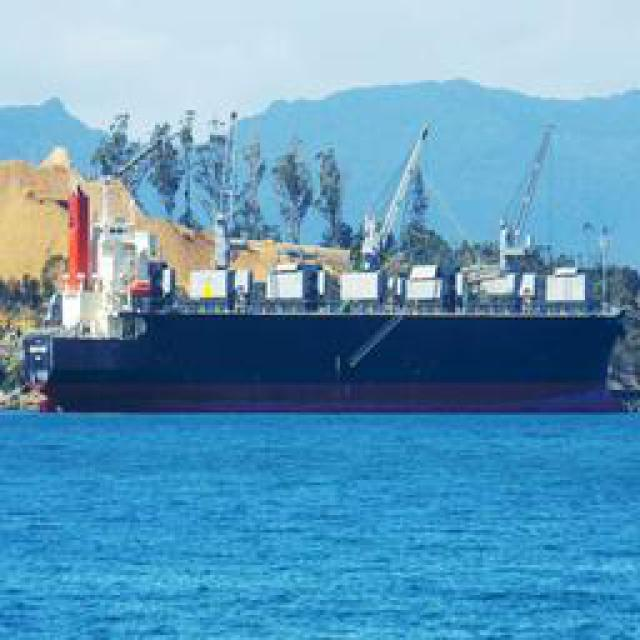Ship: (22, 109, 635, 434)
